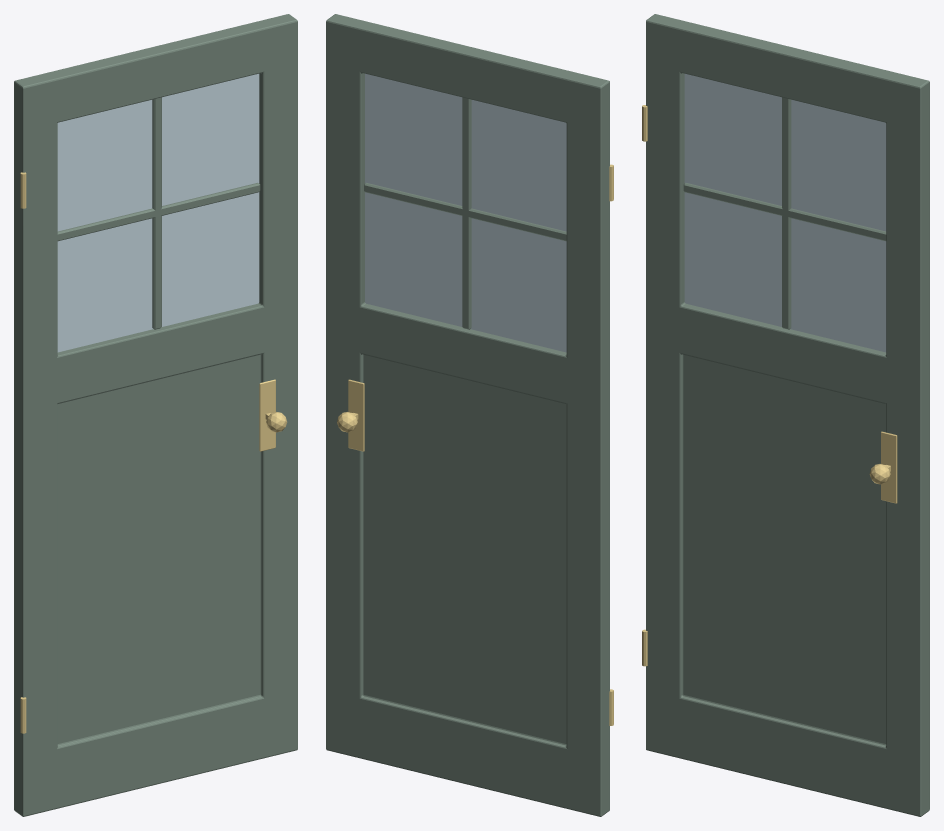
File: door_leaf_front.glb
3 renders of one model, left to right at view 1: azimuth 30°, elevation 25°; view 2: azimuth 150°, elevation 25°; view 3: azimuth 330°, elevation 25°, orthographic.
Parts seen in each view (by area): view 1: door_leaf_front_door, door_leaf_front_glass, door_leaf_front_brass; view 2: door_leaf_front_door, door_leaf_front_glass, door_leaf_front_brass; view 3: door_leaf_front_door, door_leaf_front_glass, door_leaf_front_brass.
Part boxes in pixels (x1,y1,x2,y2): door_leaf_front_door: (14, 14, 297, 816); door_leaf_front_glass: (57, 73, 259, 352); door_leaf_front_brass: (20, 172, 287, 733); door_leaf_front_door: (326, 14, 609, 816); door_leaf_front_glass: (365, 73, 566, 352); door_leaf_front_brass: (337, 164, 613, 725); door_leaf_front_door: (646, 14, 929, 816); door_leaf_front_glass: (684, 73, 886, 352); door_leaf_front_brass: (642, 105, 897, 666).
Size of the model in its own units: 0.848 by 2.13 by 0.206.
